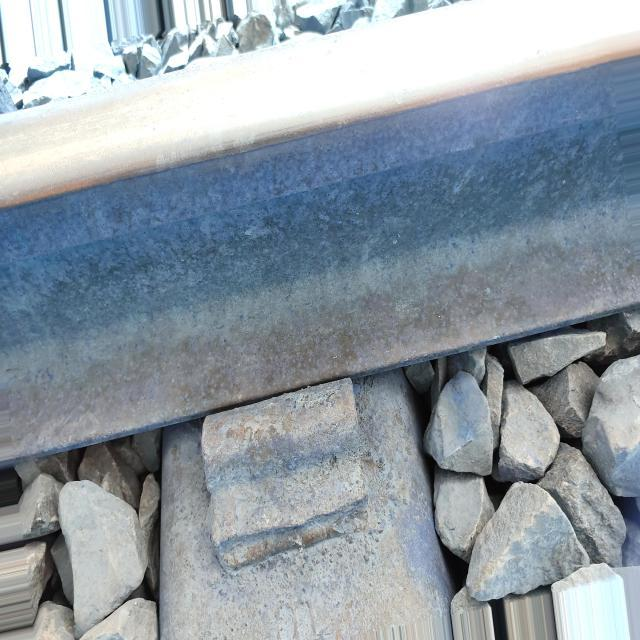Missing Fastener: (190, 343, 385, 598)
